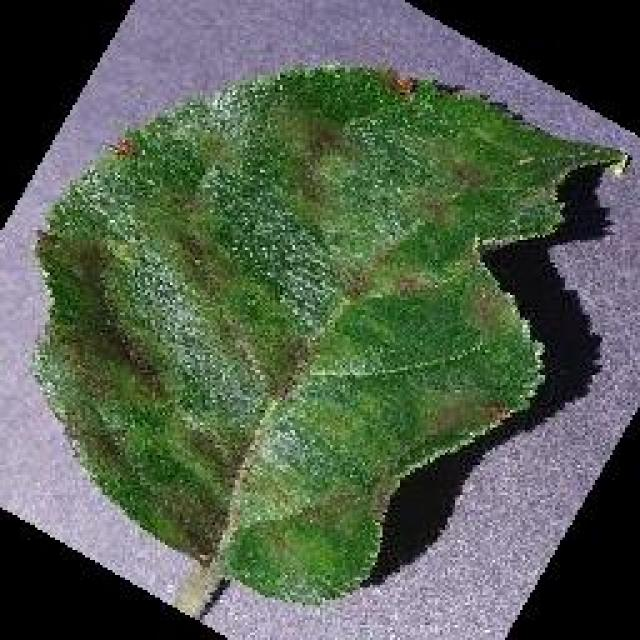apple scab disease: (28, 60, 632, 615)
